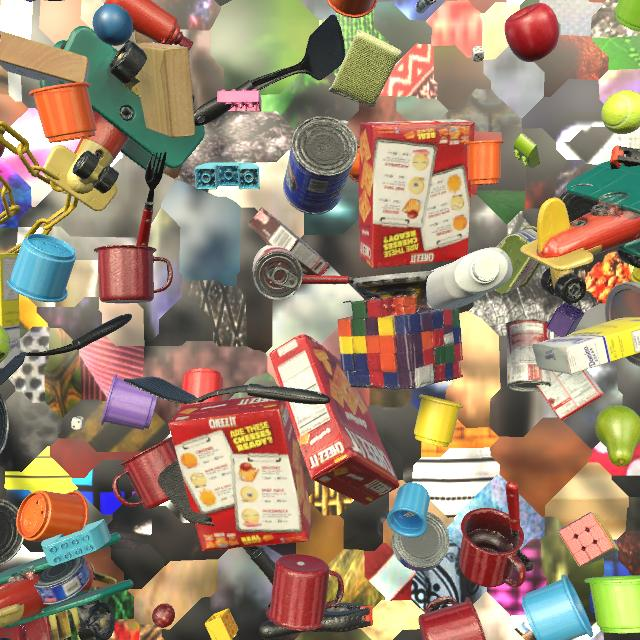ycb_002_master_chef_can: (283, 116, 358, 215), (0, 499, 24, 566), (558, 183, 599, 222), (0, 393, 9, 454)
ycb_003_cracker_box: (269, 334, 400, 505), (168, 397, 313, 551), (359, 119, 475, 268)
ycb_004_sugar_box: (533, 317, 640, 374), (0, 253, 20, 369)
ycb_005_tomato_soup_can: (505, 318, 551, 392), (253, 245, 303, 300)
ycb_007_tuna_fish_can: (392, 512, 450, 572), (34, 556, 90, 604)
ycb_008_pudding_box: (248, 207, 330, 275)
ycb_009_gelatin_box: (536, 369, 604, 420)
ycb_010_potted_meat_can: (494, 226, 541, 294)
ycb_013_apple: (505, 3, 559, 62)
ycb_015_peach: (0, 135, 5, 157)
ycb_016_pear: (595, 405, 640, 466)
